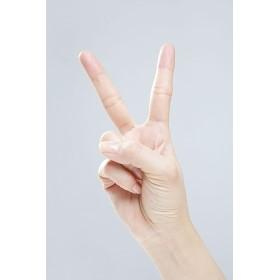tyoki: (78, 43, 188, 217)
